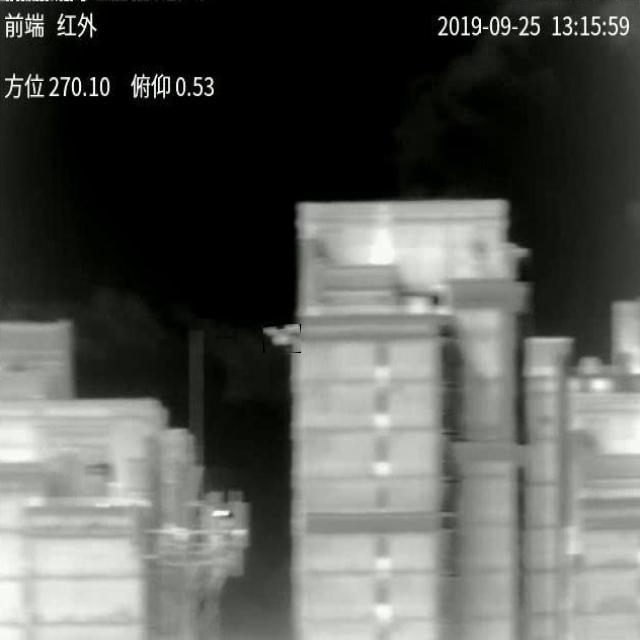drone: (263, 324, 301, 352)
